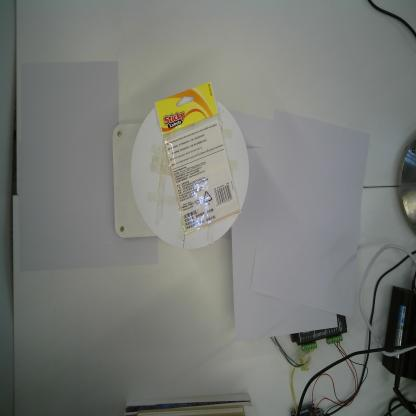Stationery: (152, 80, 240, 239)
